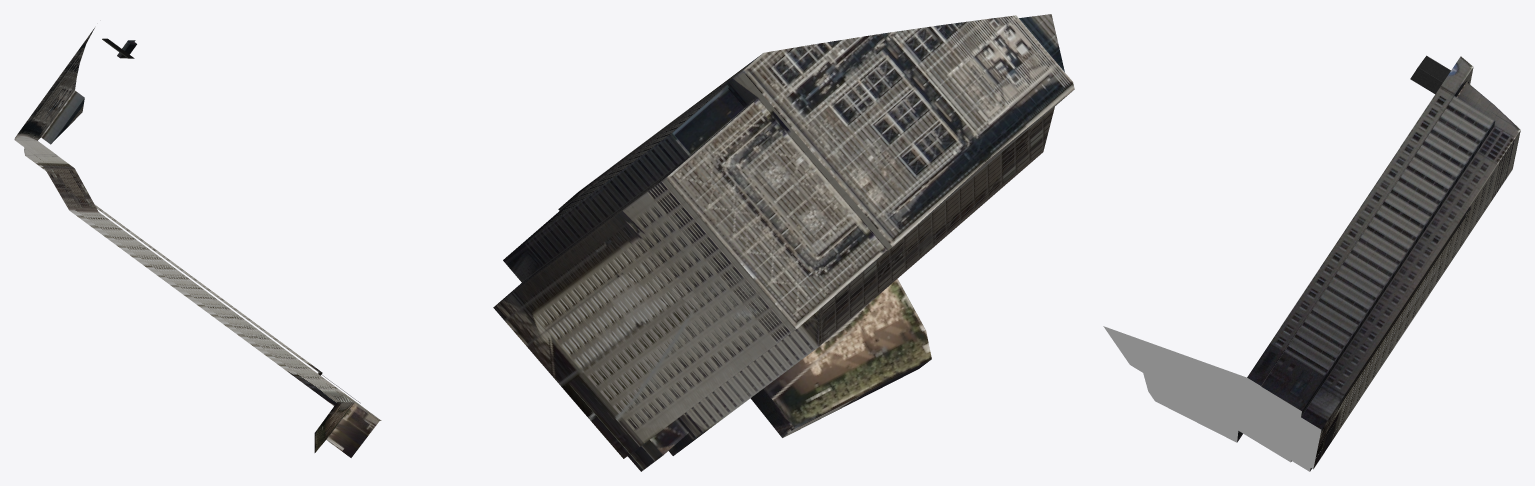
The model's file is 39550_bldg_Building.glb.
3 views of the same model, side by side, from view 1: azimuth 30°, elevation 25°; view 2: azimuth 150°, elevation 25°; view 3: azimuth 270°, elevation 25° (orthographic). The views are drawn at different scales.
Bounding box in the file's own units: 113 × 104 × 114.
Materials: 3 (2 with a texture image).
